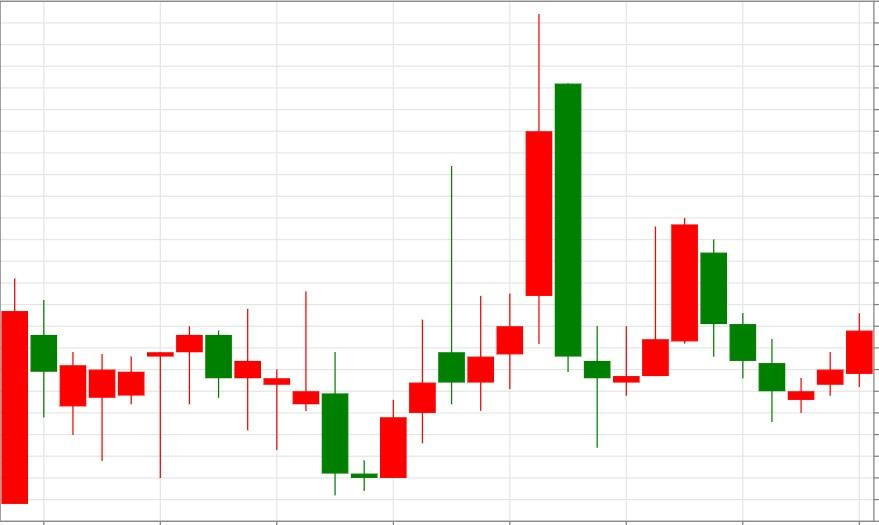morning_star_rise: (175, 290, 408, 496)
three_black_crows_fall: (583, 217, 786, 447)
